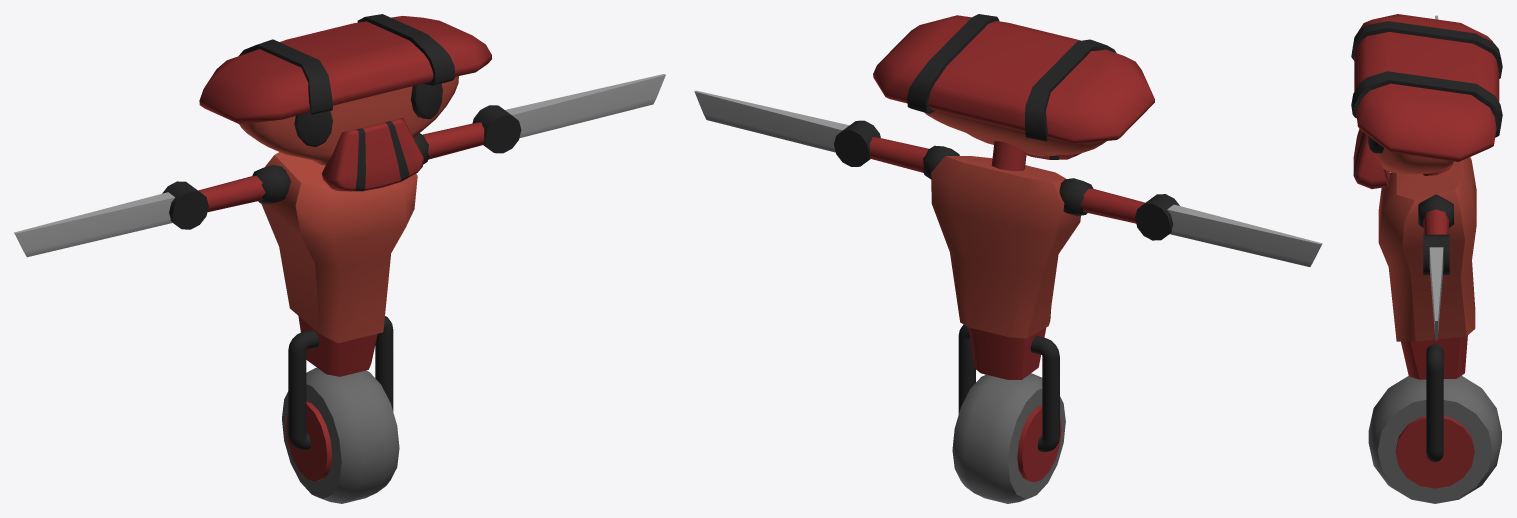
File: Planet2_Red.fbx
3 views of the same model, side by side, from view 1: azimuth 30°, elevation 25°; view 2: azimuth 150°, elevation 25°; view 3: azimuth 270°, elevation 25° (orthographic). The views are drawn at different scales.
Visible parts, largest first — view 1: Planet2_Red; view 2: Planet2_Red; view 3: Planet2_Red.
Boxes of the visible parts, x1=… form: Planet2_Red: x1=14, y1=14, x2=665, y2=503; Planet2_Red: x1=694, y1=14, x2=1322, y2=503; Planet2_Red: x1=1351, y1=14, x2=1502, y2=503.
Size of the model in its own units: 5.74 by 3.92 by 1.2.
